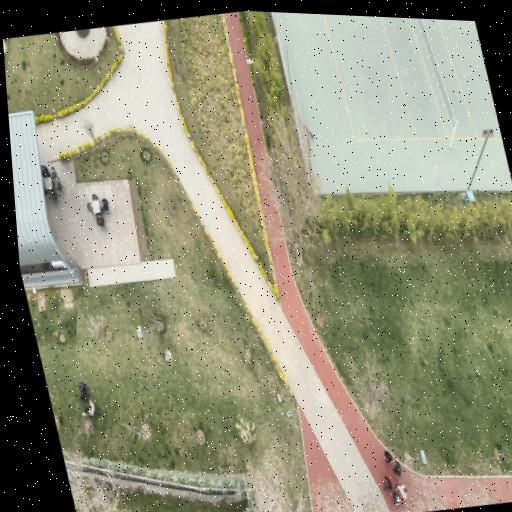person: (395, 482, 408, 500), (82, 401, 96, 415), (79, 383, 87, 401), (393, 460, 402, 476), (41, 165, 51, 177), (392, 491, 400, 505), (384, 476, 392, 490), (384, 450, 392, 463), (102, 198, 109, 212), (97, 214, 104, 226)
